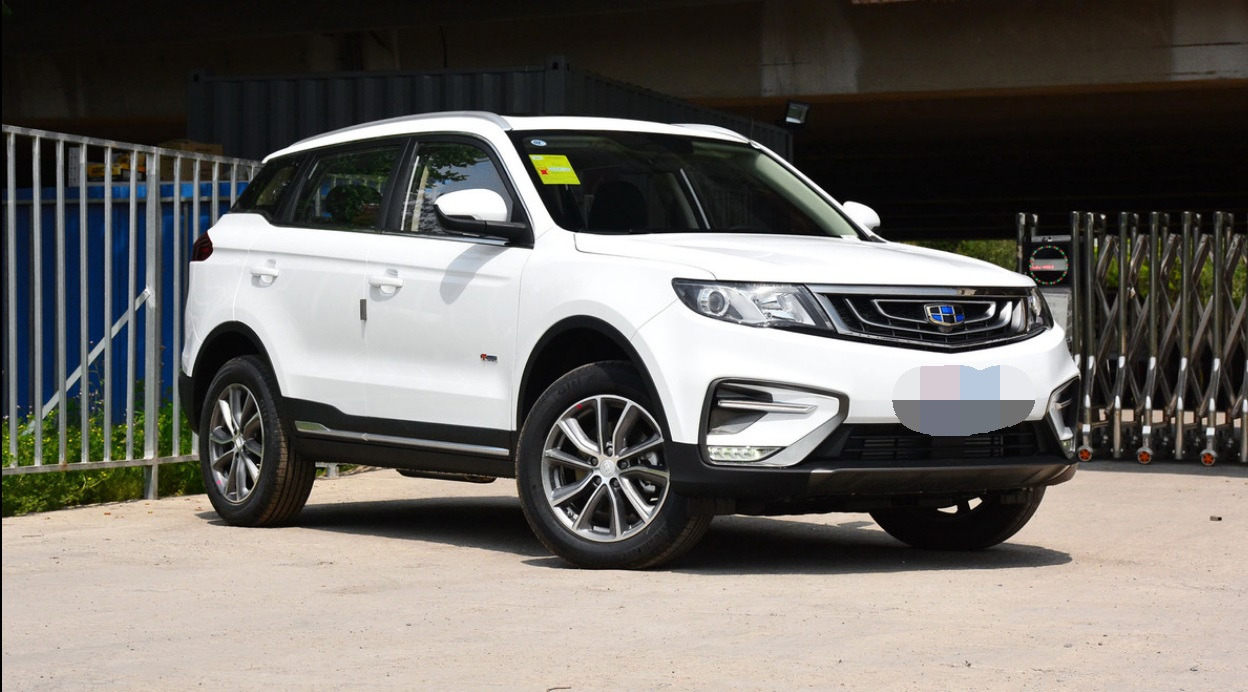SUV: (178, 106, 1092, 588)
